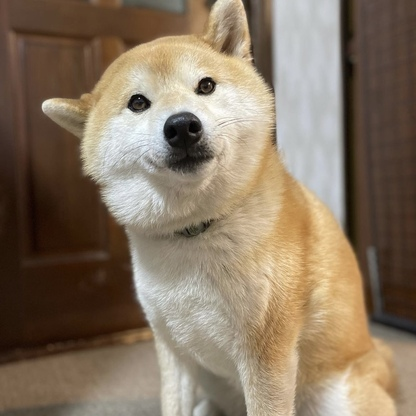shiba: (38, 1, 402, 416)
